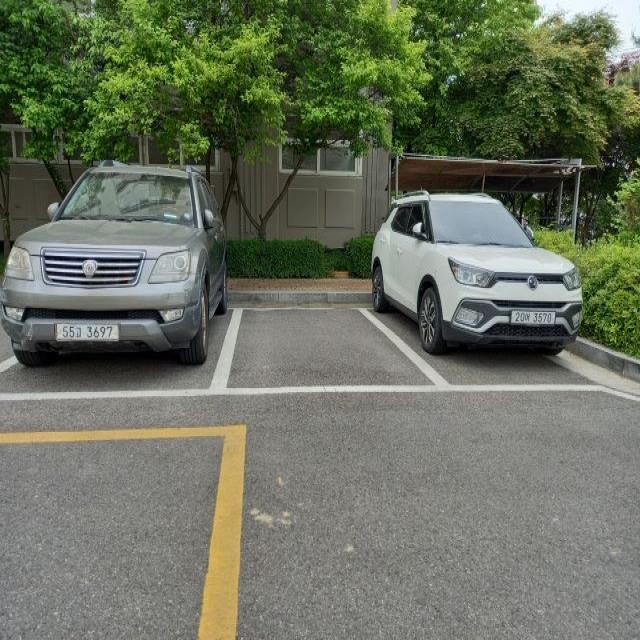empty: (208, 305, 453, 397)
occupied: (0, 159, 225, 385), (369, 188, 592, 366)
